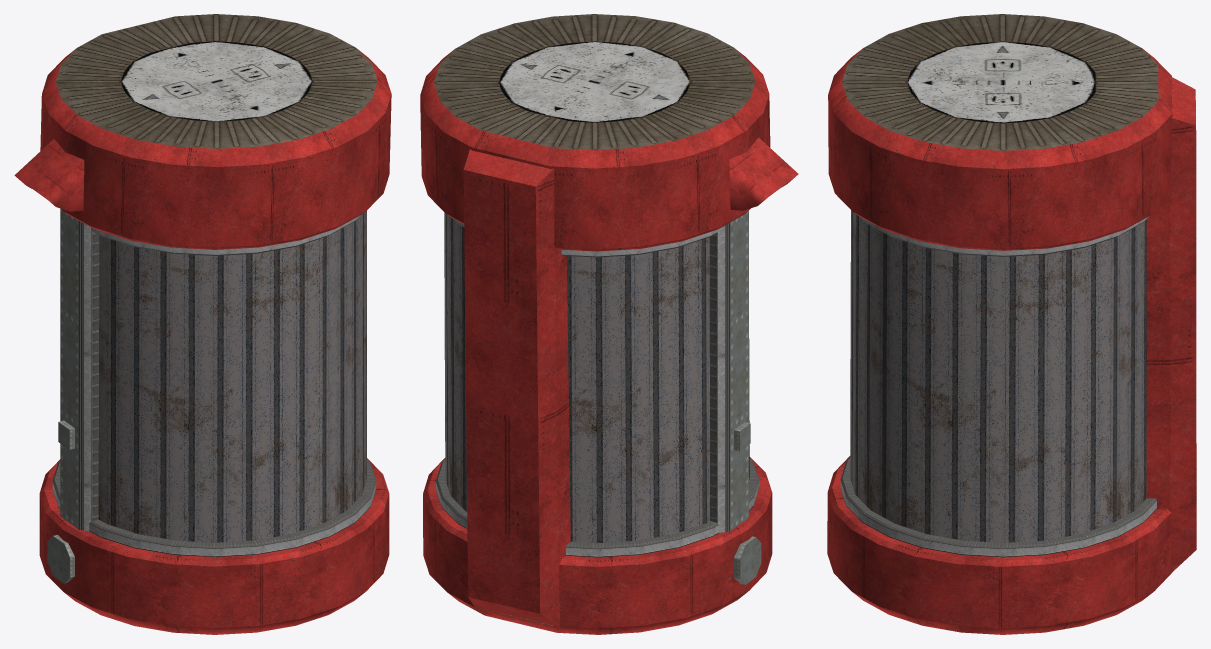
The picture shows the model from 3 angles, left to right: view 1: azimuth 30°, elevation 25°; view 2: azimuth 150°, elevation 25°; view 3: azimuth 270°, elevation 25°; orthographic projection.
Visible parts, largest first — view 1: Ob_Capsule1_RC; view 2: Ob_Capsule1_RC; view 3: Ob_Capsule1_RC.
Boxes of the visible parts, x1,y1,x2,y2 form: Ob_Capsule1_RC: (14, 14, 391, 634); Ob_Capsule1_RC: (420, 14, 798, 634); Ob_Capsule1_RC: (827, 14, 1196, 634).
Size of the model in its own units: 1011 by 1381 by 950.
